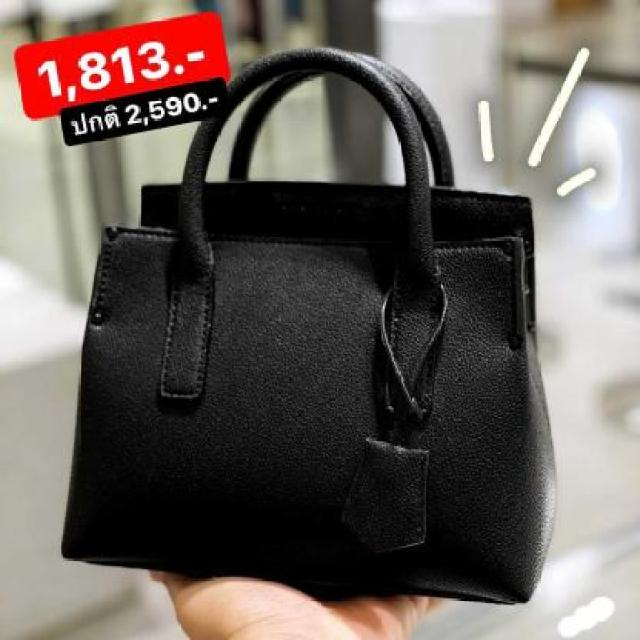Bag: (61, 33, 579, 630)
